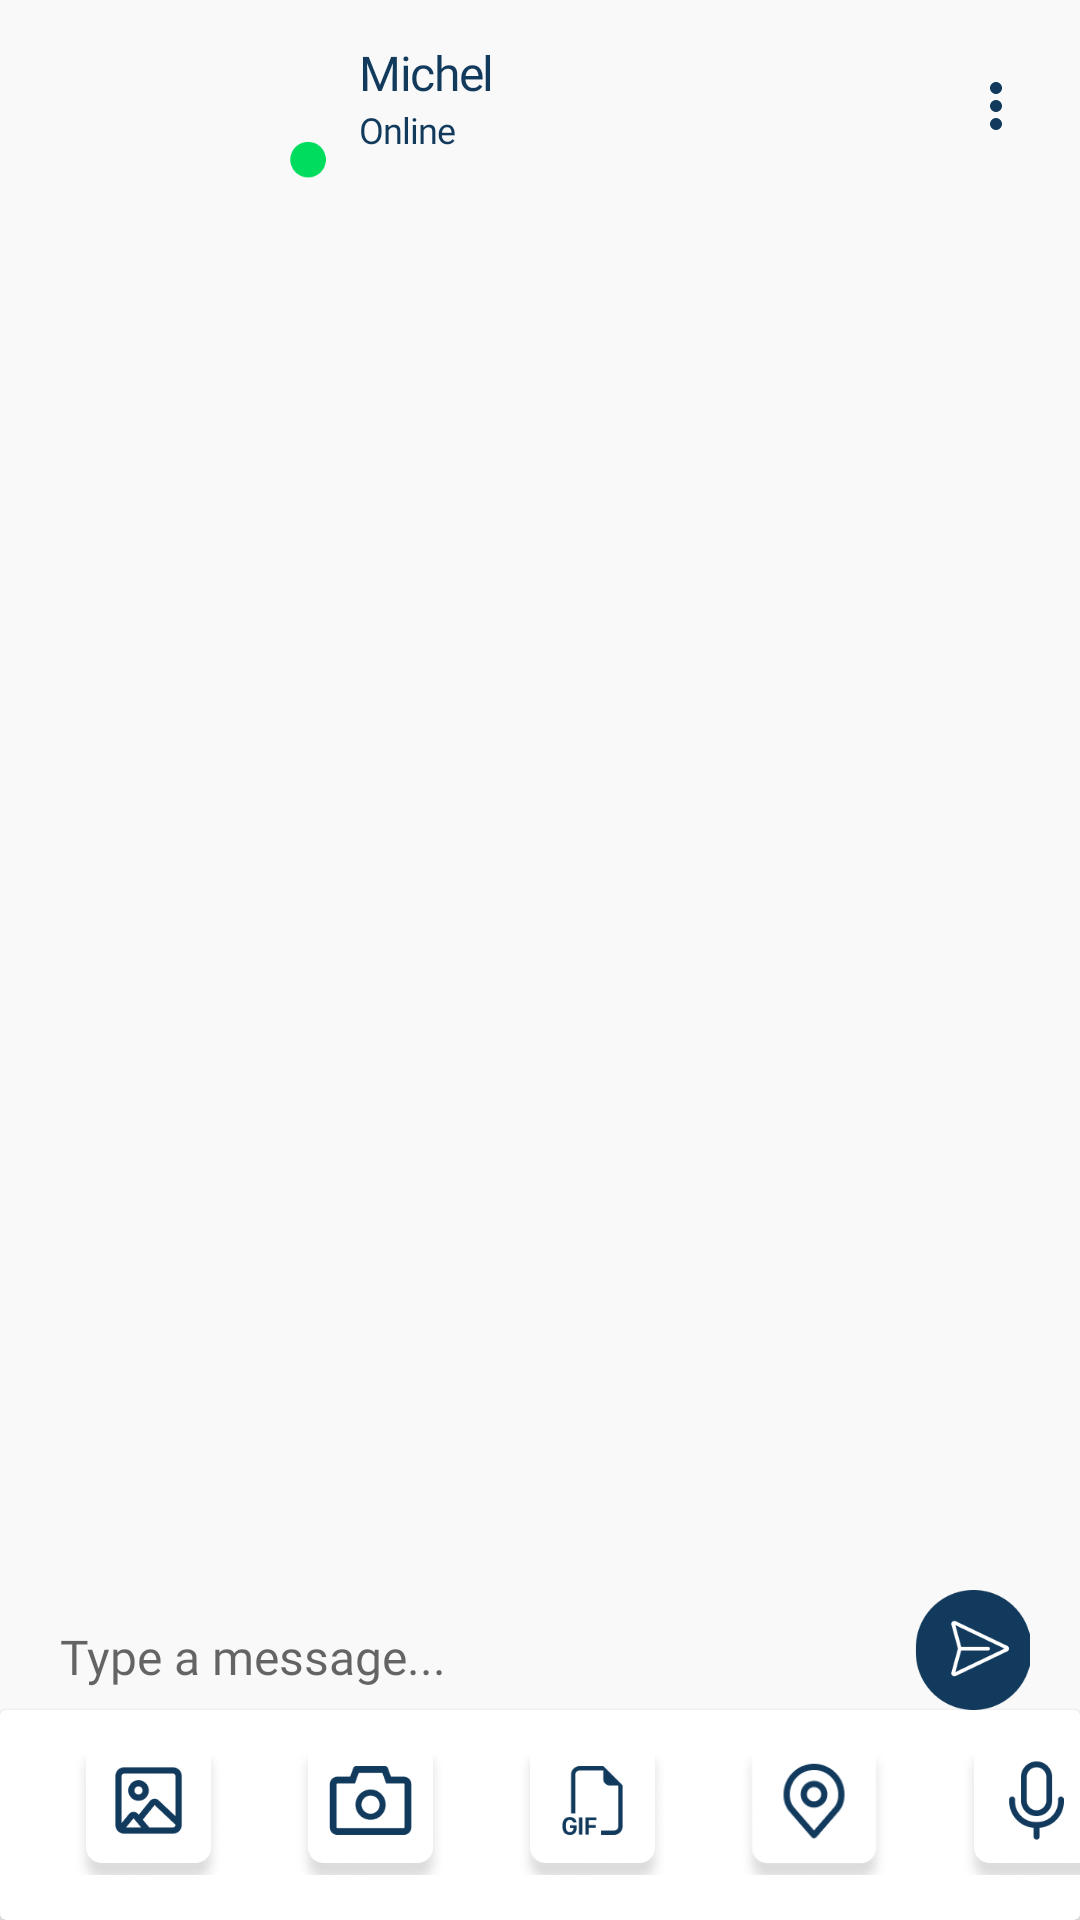

Screen size 1080w x 1920h. Icon name, then its box in pixels as (x1, y1, x2, y2):
camera: (311, 1766, 430, 1875)
gallery: (89, 1767, 208, 1875)
location: (755, 1763, 873, 1875)
more vert: (990, 82, 1002, 130)
send msg: (916, 1590, 1030, 1710)
